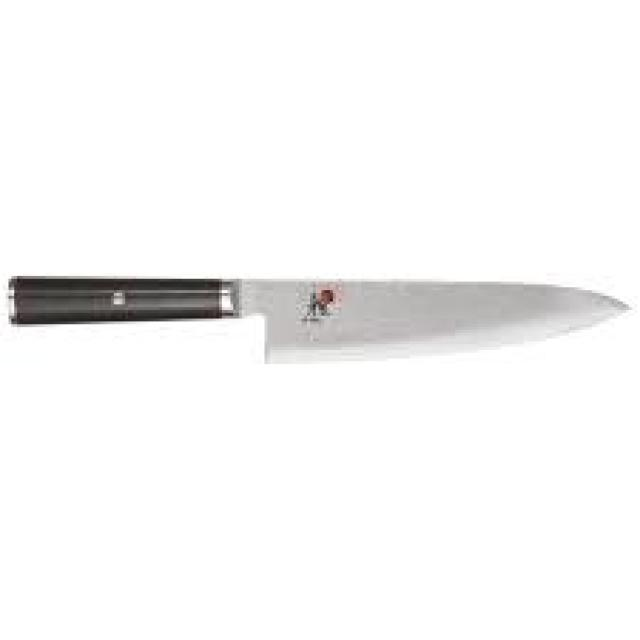Knife: (3, 273, 631, 364)
